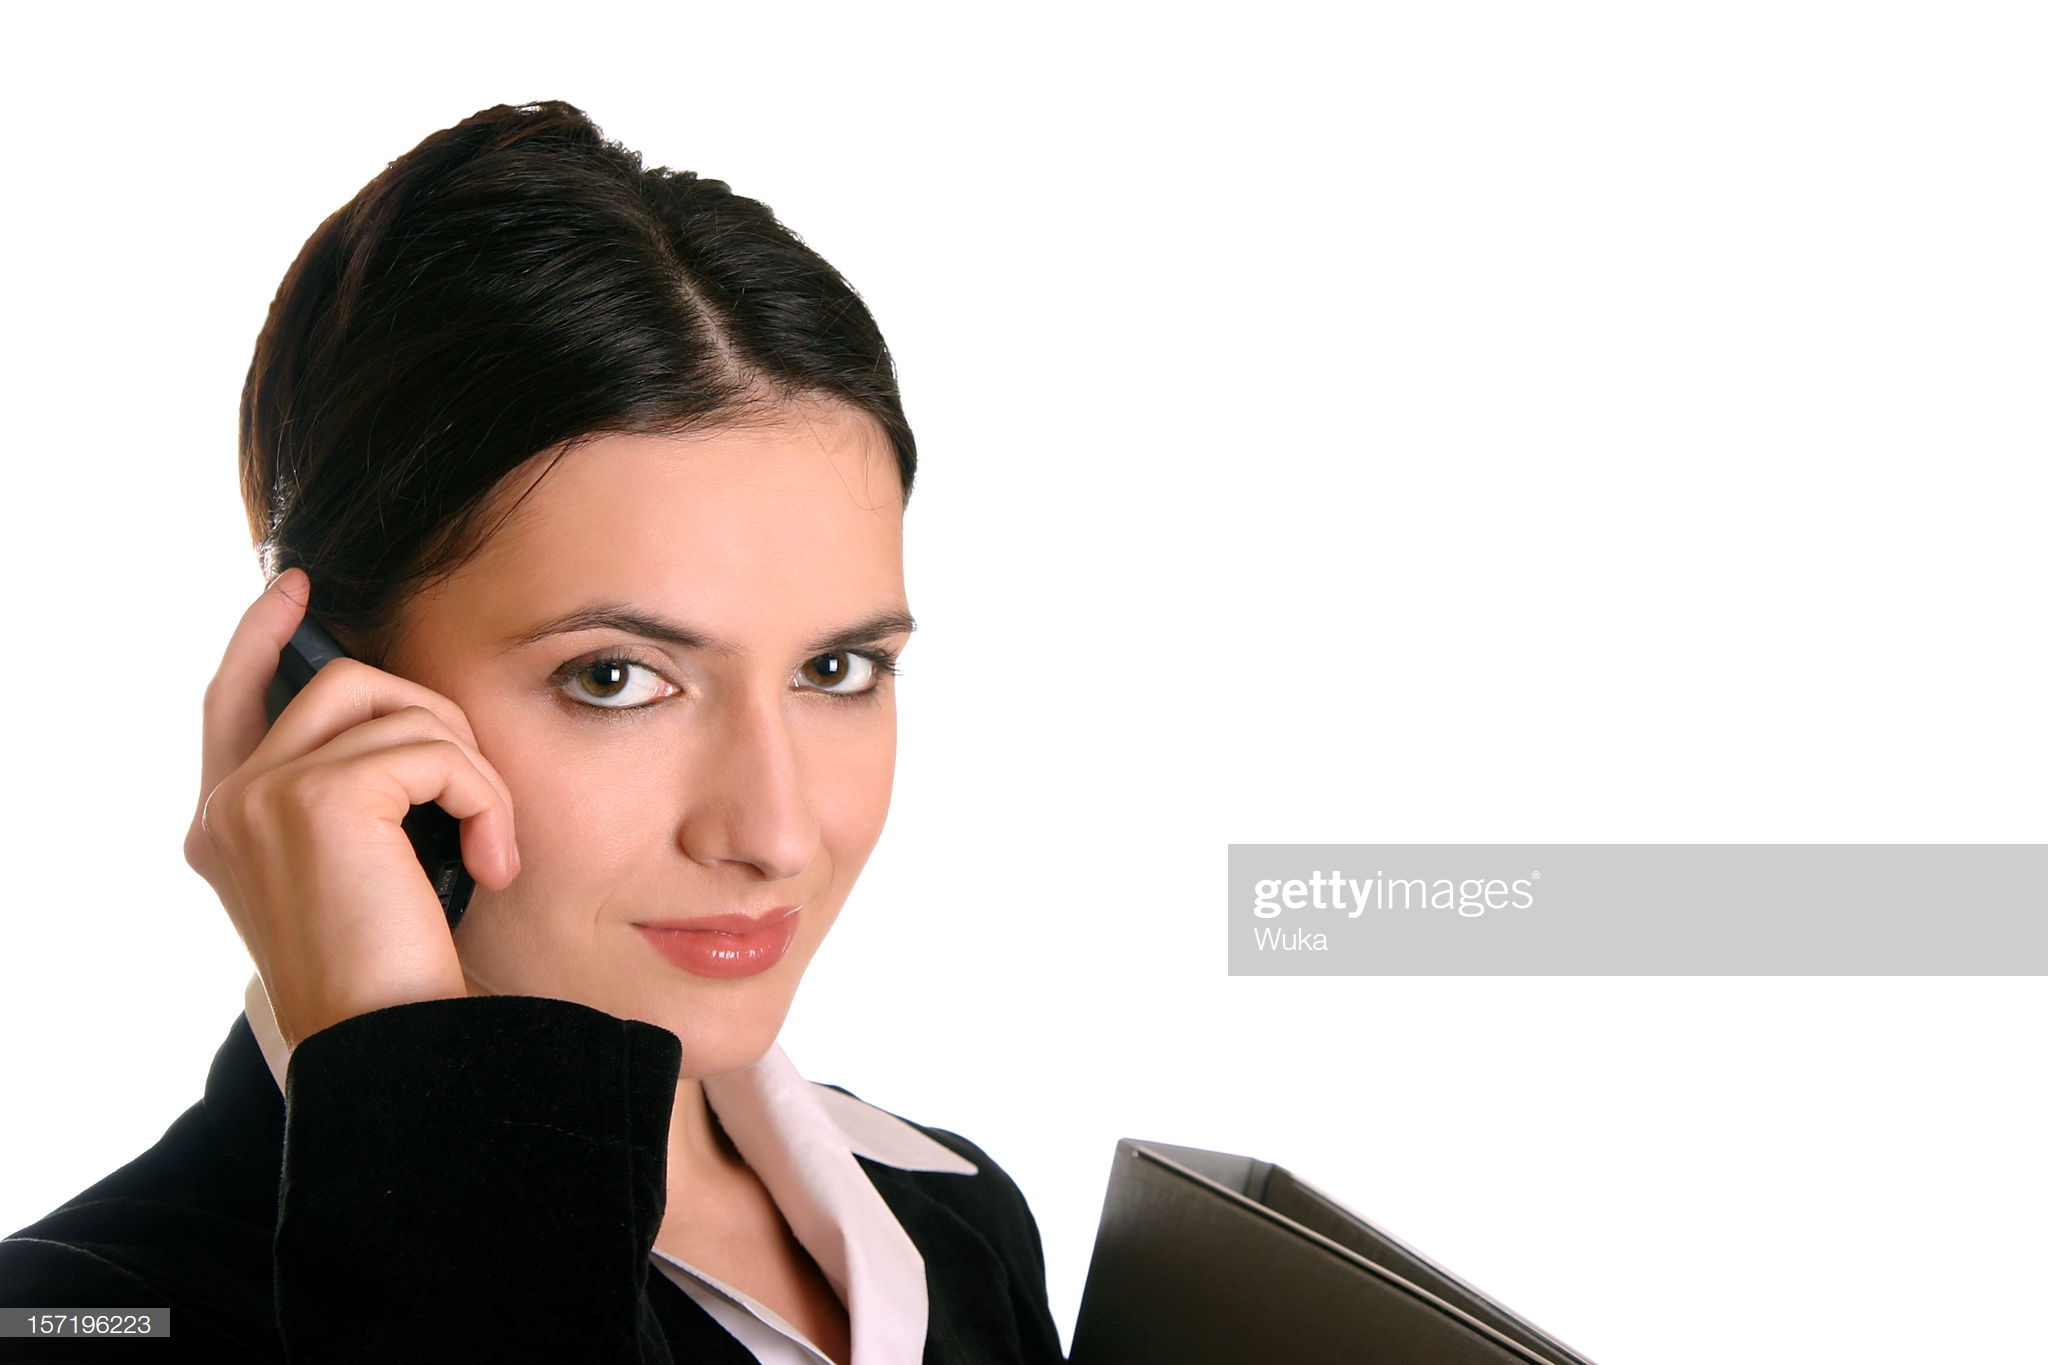phone: (204, 590, 524, 992)
talk: (155, 551, 923, 1085)
